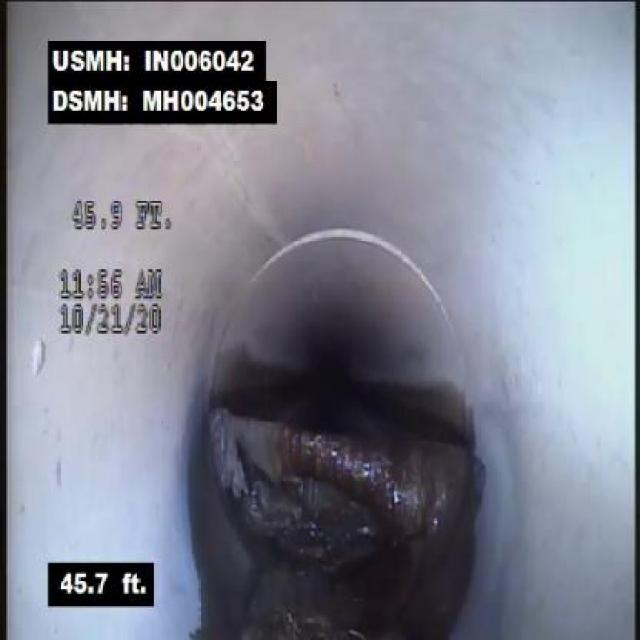Obstacle: (194, 392, 494, 617)
